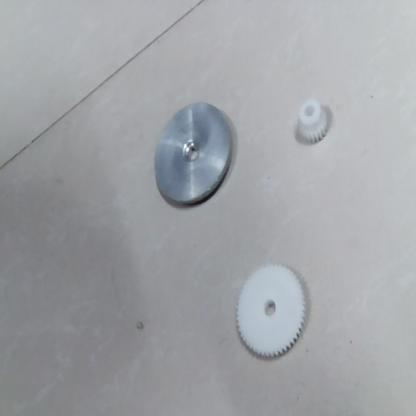FOD: (152, 100, 233, 209), (234, 263, 308, 364), (291, 100, 331, 146)
